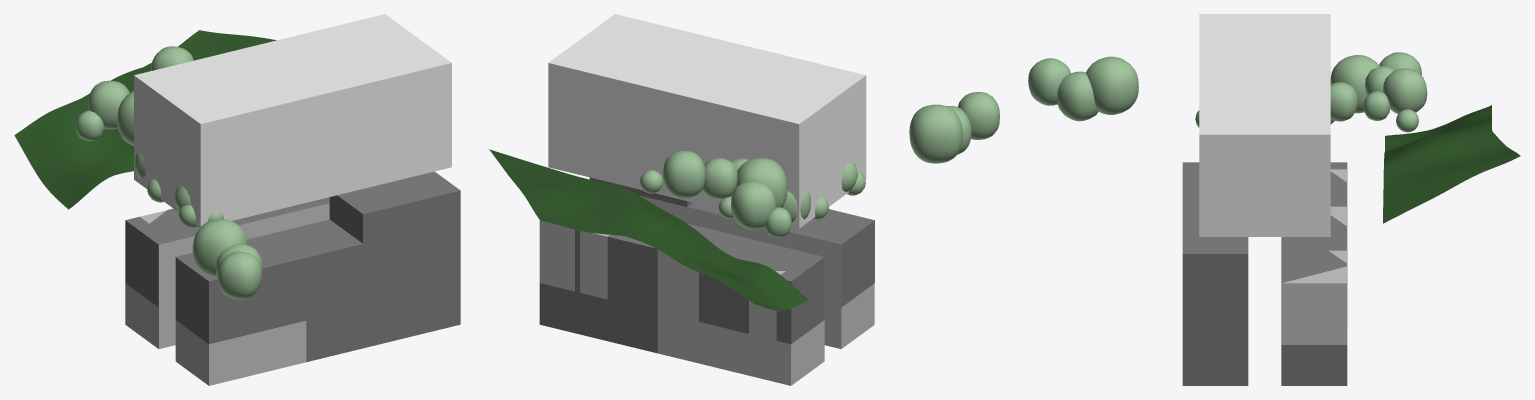
File: QUT_Diagram_01.glb
3 views of the same model, side by side, from view 1: azimuth 30°, elevation 25°; view 2: azimuth 150°, elevation 25°; view 3: azimuth 270°, elevation 25° (orthographic).
Parts seen in each view (by area): view 1: LayerA, LayerC, LayerB, Green, Trees; view 2: LayerA, LayerC, LayerB, Trees, Green; view 3: LayerA, LayerC, Trees, Green, LayerB.
Part boxes in pixels (left/top/right/bottom): LayerA: left=134, top=14, right=451, bottom=227; LayerC: left=125, top=171, right=460, bottom=362; LayerB: left=125, top=203, right=329, bottom=385; Green: left=14, top=30, right=276, bottom=209; Trees: left=76, top=46, right=262, bottom=299; LayerA: left=548, top=14, right=866, bottom=228; LayerC: left=539, top=177, right=874, bottom=353; LayerB: left=539, top=195, right=874, bottom=385; Trees: left=640, top=92, right=999, bottom=237; Green: left=489, top=149, right=808, bottom=310; LayerA: left=1199, top=14, right=1330, bottom=236; LayerC: left=1182, top=162, right=1347, bottom=385; Trees: left=1028, top=52, right=1427, bottom=132; Green: left=1383, top=105, right=1520, bottom=223; LayerB: left=1281, top=169, right=1346, bottom=344.
Bounding box in the file's own units: 118 × 84.49 × 150.
